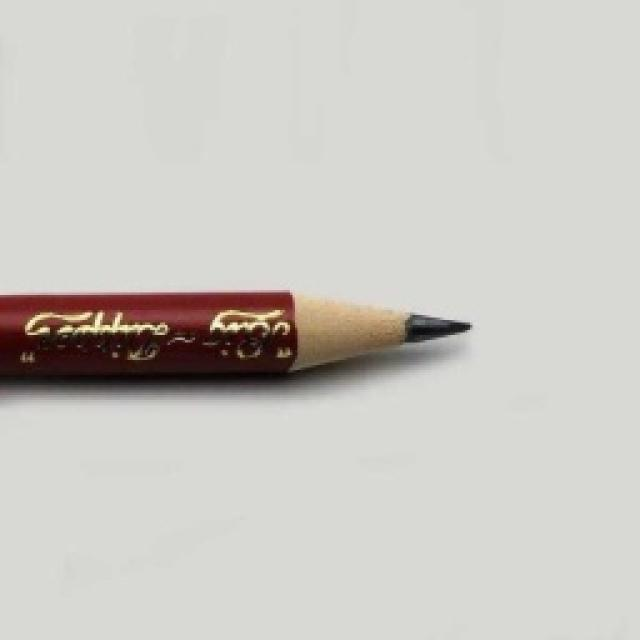pencil: (0, 285, 472, 385)
